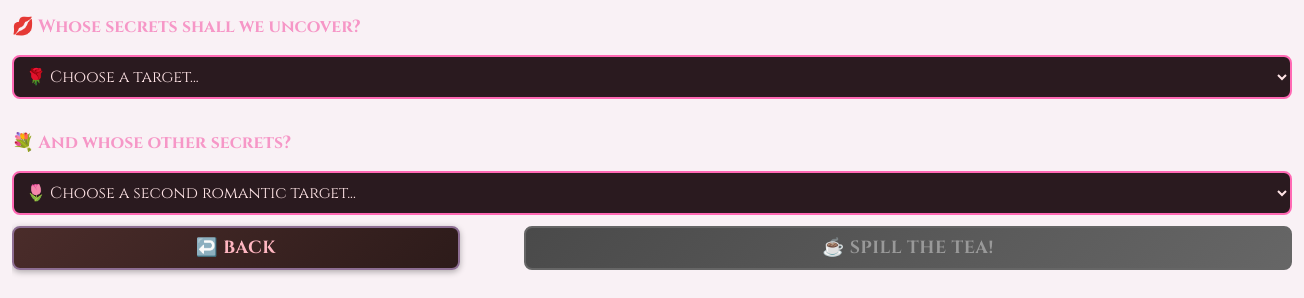
Scenario: BaronessTargetModal - The Court's Matchmaker › 🔒 Validation & Button States › enables confirm button with valid two different targets
Select "💕 Bob (Bob Real)" in the dropdown showing "🌹 Choose a target..." below "💋 Whose secrets shall we uncover?": [652, 77] box [12, 55, 1292, 99]
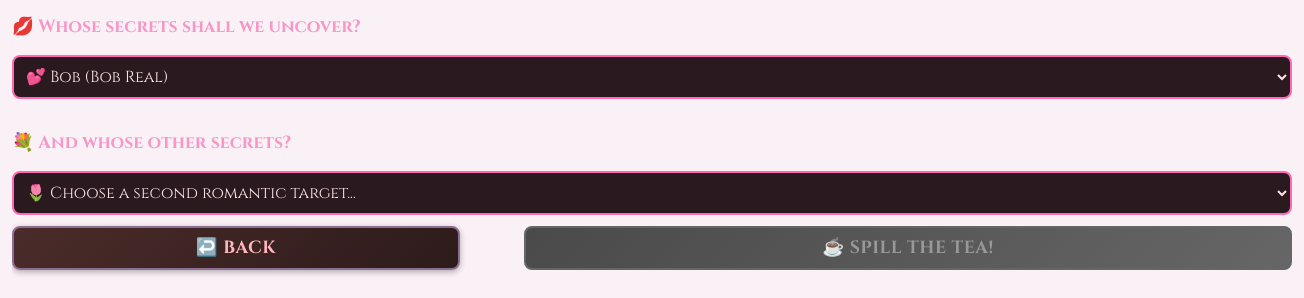
Select "💕 Charlie (Charlie Real)" in the dropdown showing "🌷 Choose a second romantic target..." below "💐 And whose other secrets?": [652, 193] box [12, 171, 1292, 215]
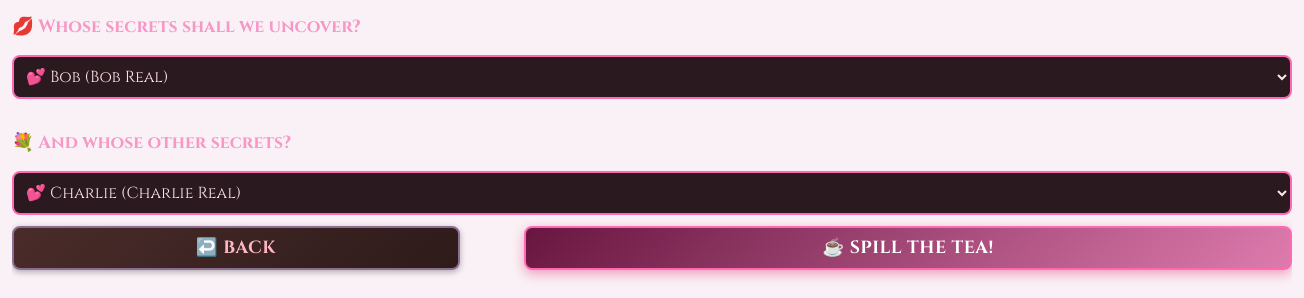
Result: the button "☕ Spill the Tea!" is enabled at [524, 226, 1292, 270]
